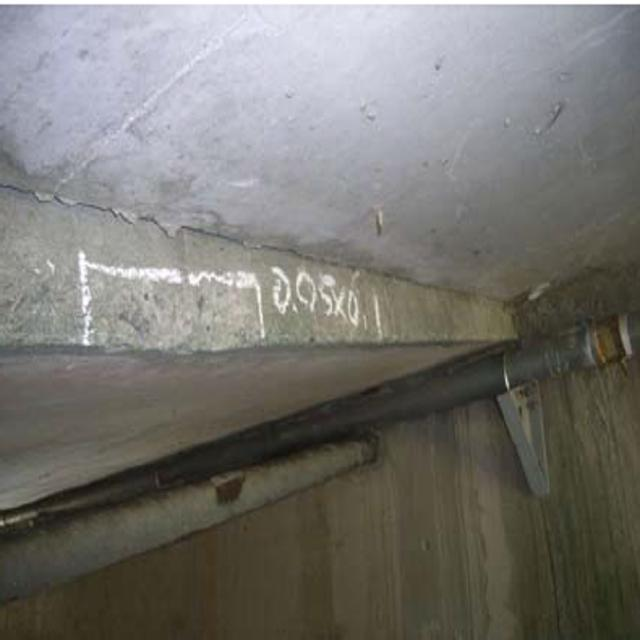spalling: (78, 257, 273, 379)
